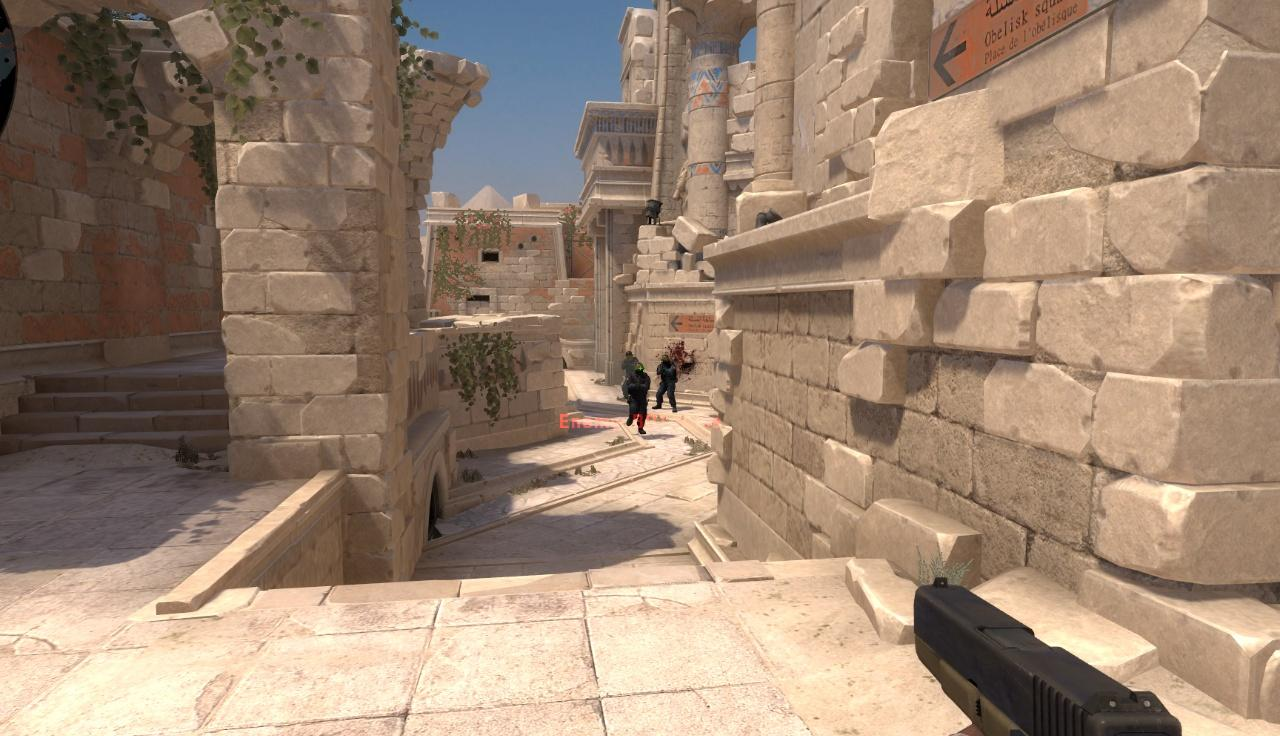ct: (657, 355, 677, 412), (629, 364, 646, 431)
cthead: (634, 364, 643, 375), (662, 355, 669, 364), (626, 351, 632, 361)
pistol: (904, 573, 1182, 736)
